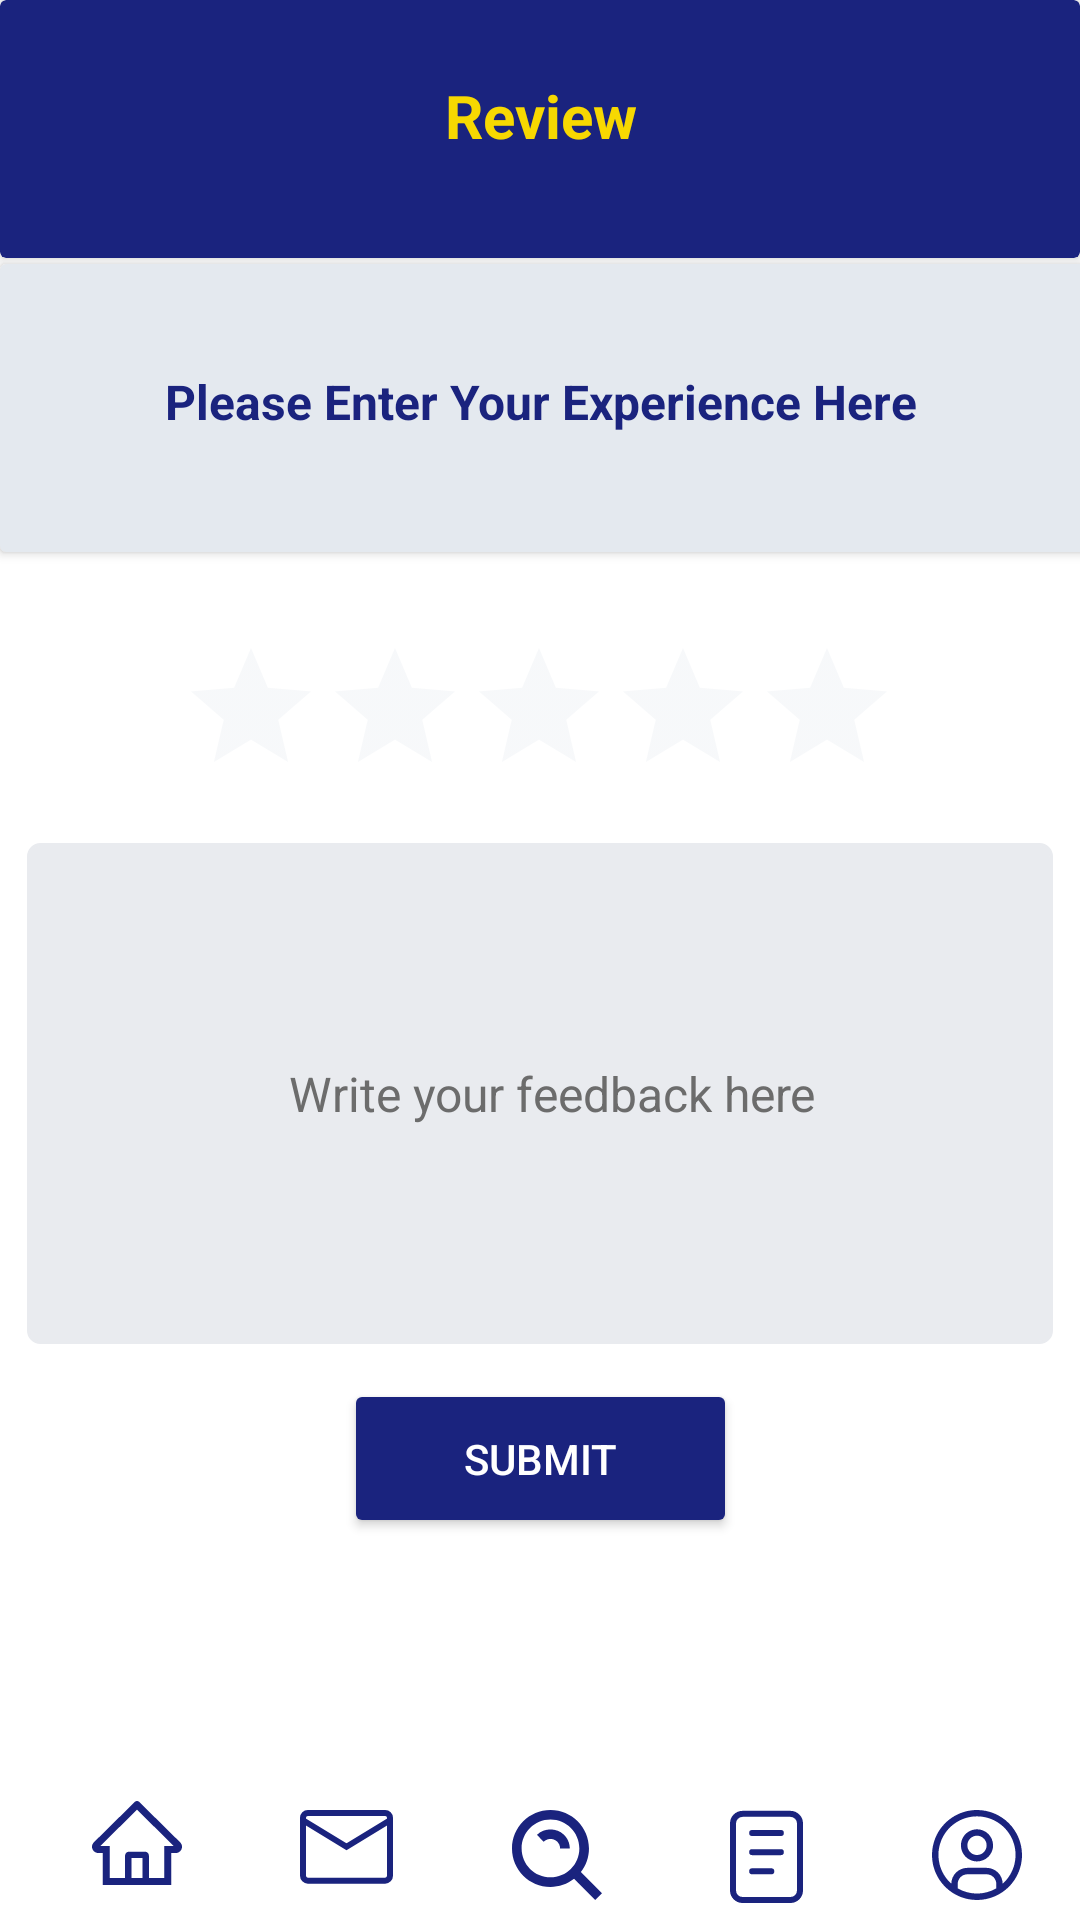

Where icons sit on this 1080x1920 app screen, as (x1, y1, x2, y2):
home: (92, 1801, 182, 1885)
message: (300, 1810, 393, 1884)
order: (730, 1810, 803, 1903)
profile: (932, 1810, 1022, 1900)
searchh: (512, 1810, 602, 1900)
